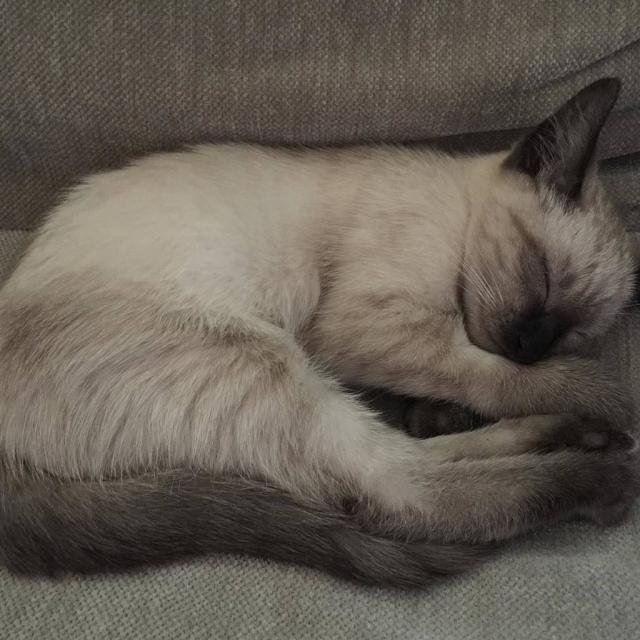Cat: (0, 75, 639, 591)
